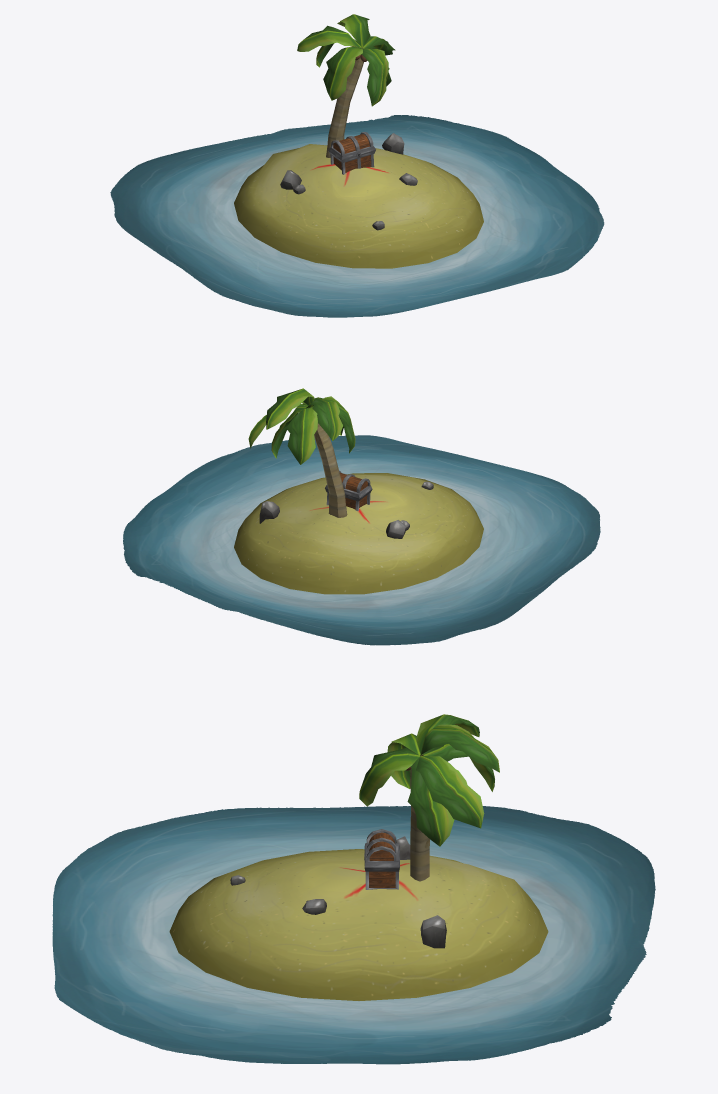
3 renders of one model, top to bottom at view 1: azimuth 30°, elevation 25°; view 2: azimuth 150°, elevation 25°; view 3: azimuth 270°, elevation 25°, orthographic. The views are drawn at different scales.
Parts seen in each view (by area): view 1: pPlane1, SM_Treasure_Island1; view 2: pPlane1, SM_Treasure_Island1; view 3: pPlane1, SM_Treasure_Island1.
Boxes of the visible parts, box(x1,y1,x2,y2) form: pPlane1: box(110, 115, 604, 317); SM_Treasure_Island1: box(234, 14, 483, 268); pPlane1: box(123, 435, 600, 645); SM_Treasure_Island1: box(234, 388, 483, 594); pPlane1: box(52, 806, 655, 1064); SM_Treasure_Island1: box(169, 714, 548, 1000).
Size of the model in its own units: 0.128 by 0.0461 by 0.128.
Materials: 2 (2 with a texture image).
